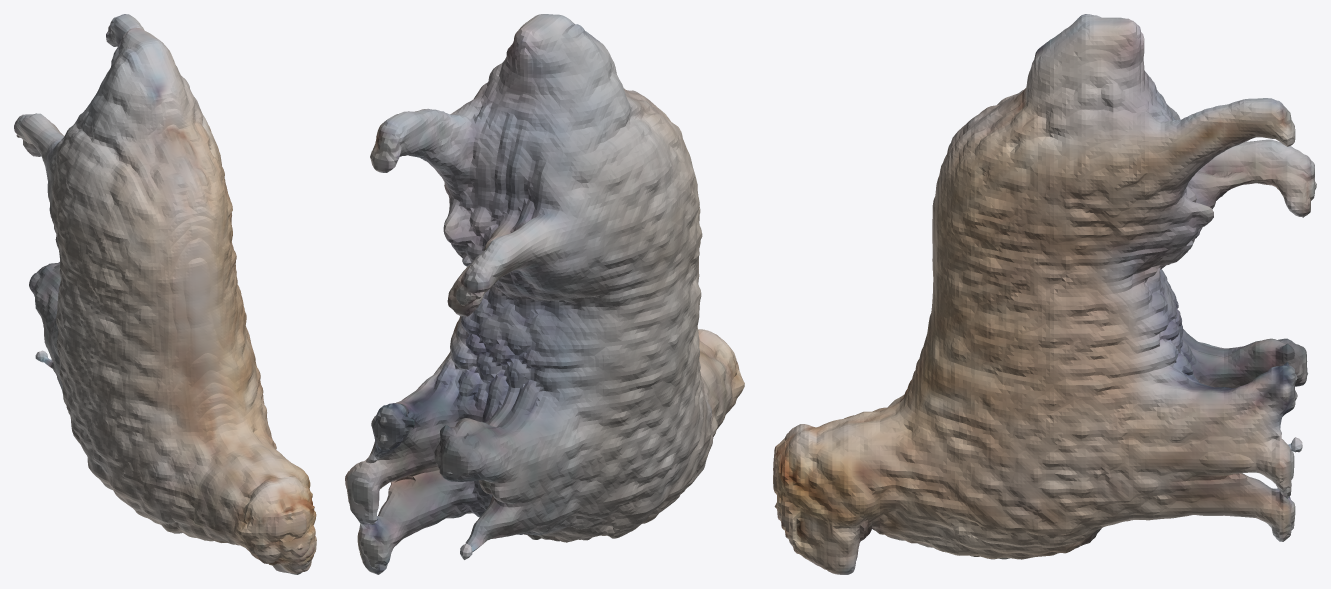
3 views of the same model, side by side, from view 1: azimuth 30°, elevation 25°; view 2: azimuth 150°, elevation 25°; view 3: azimuth 270°, elevation 25° (orthographic). The views are drawn at different scales.
Parts seen in each view (by area): view 1: world; view 2: world; view 3: world.
Part boxes in pixels (x1,y1,x2,y2): world: [14, 14, 316, 574]; world: [345, 14, 744, 574]; world: [773, 14, 1316, 574].
Size of the model in its own units: 0.4201 by 1.01 by 0.9378.
